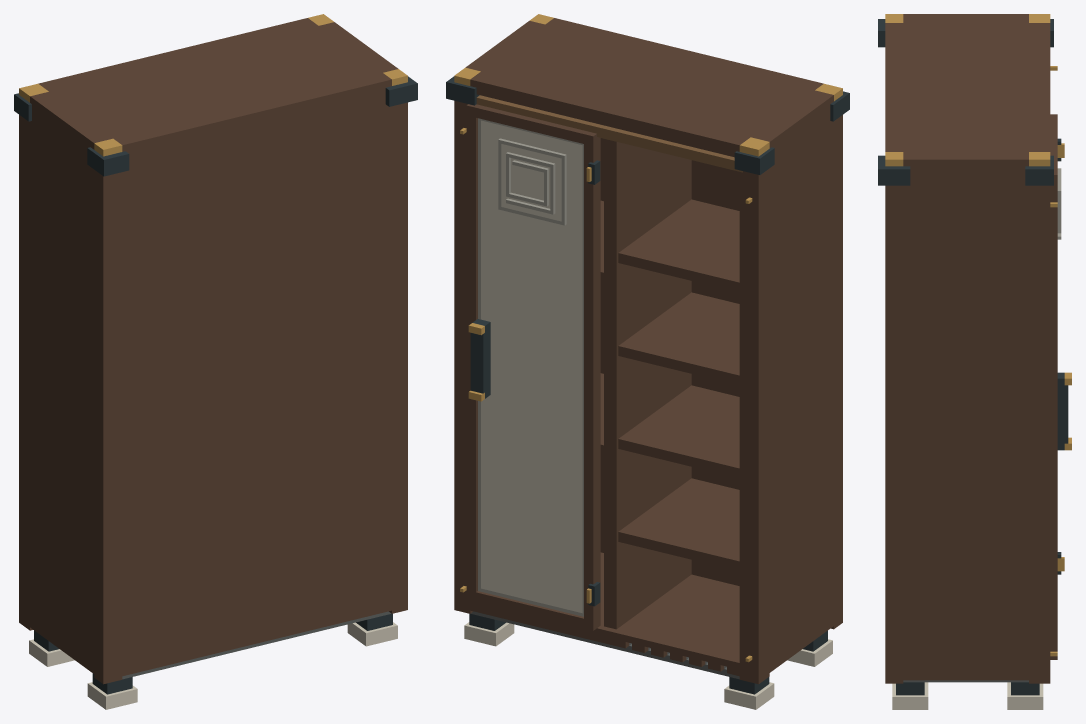
File: LIFE-042.glb
3 renders of one model, left to right at view 1: azimuth 30°, elevation 25°; view 2: azimuth 150°, elevation 25°; view 3: azimuth 270°, elevation 25°, orthographic.
Visible parts, largest first — view 1: 食品储物柜; view 2: 食品储物柜; view 3: 食品储物柜.
Boxes of the visible parts, x1=… form: 食品储物柜: x1=14, y1=14, x2=417, y2=709; 食品储物柜: x1=446, y1=14, x2=849, y2=709; 食品储物柜: x1=878, y1=14, x2=1071, y2=709.
Size of the model in its own units: 0.99 by 1.7 by 0.54.
7 materials, 7 textured.
